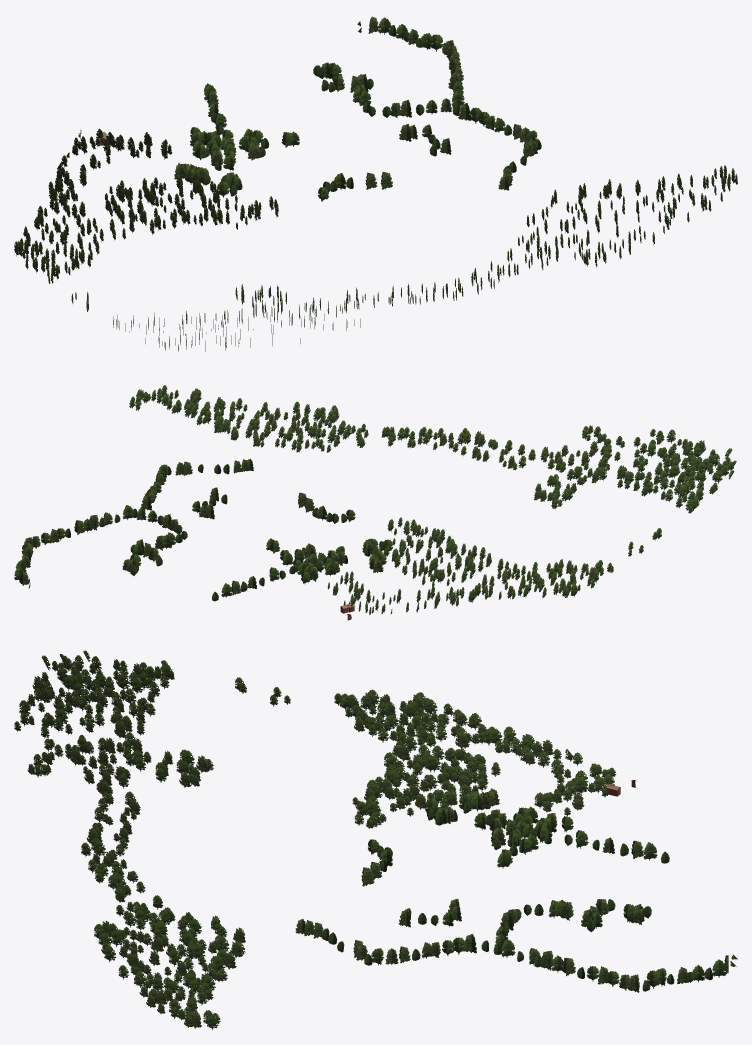
3 views of the same model, one above another, from view 1: azimuth 30°, elevation 25°; view 2: azimuth 150°, elevation 25°; view 3: azimuth 270°, elevation 25° (orthographic). The views are drawn at different scales.
Parts seen in each view (by area): view 1: tile_t15; view 2: tile_t15; view 3: tile_t15.
Boxes of the visible parts, x1,y1,x2,y2 form: tile_t15: [14, 16, 737, 351]; tile_t15: [14, 385, 736, 620]; tile_t15: [14, 650, 737, 1030].
Size of the model in its own units: 955 by 79.59 by 868.
Materials: 2 (2 with a texture image).
